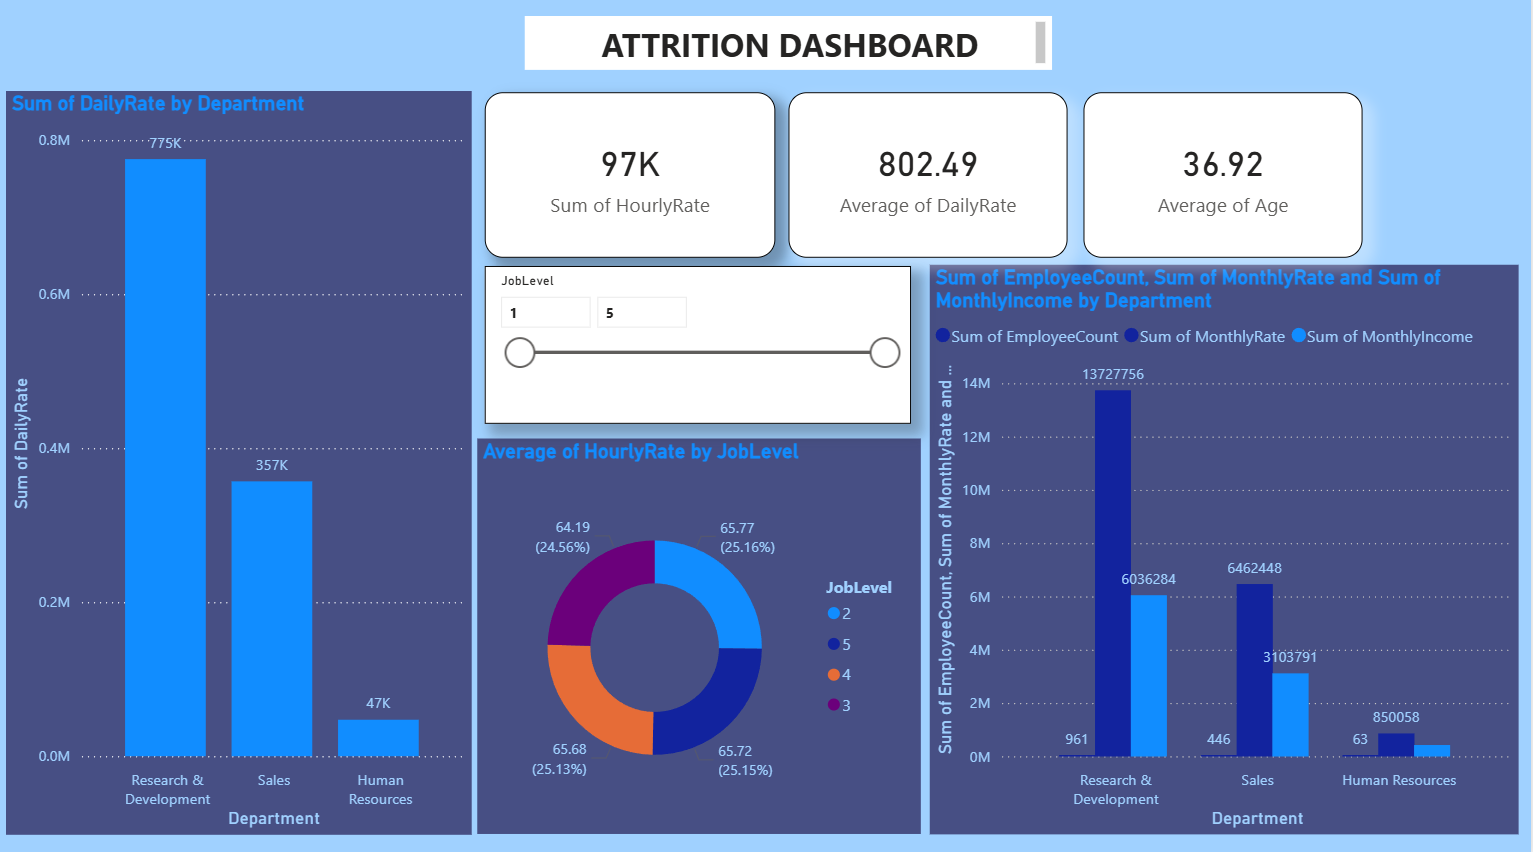

What the dashboard file says about the page in this screenshot:
{"tool":"powerbi","page":{"name":"ATTRITION DASHBOARD","canvas":[1280,720],"ordinal":0},"visuals":[{"type":"donutChart","fields":{"Y":["Avg(HR_Employee_Attrition.HourlyRate)"],"Category":["HR_Employee_Attrition.JobLevel"]},"box":[403.9,372.4,368.4,328.9],"z":0},{"type":"clusteredColumnChart","fields":{"Category":["HR_Employee_Attrition.Department"],"Y":["Sum(HR_Employee_Attrition.DailyRate)"]},"box":[12.5,83.3,387.5,618.1],"z":1000},{"type":"clusteredColumnChart","fields":{"Category":["HR_Employee_Attrition.Department"],"Y":["Sum(HR_Employee_Attrition.EmployeeCount)","Sum(HR_Employee_Attrition.MonthlyRate)","Sum(HR_Employee_Attrition.MonthlyIncome)"]},"box":[780.8,227.8,489.9,473.4],"z":2000},{"type":"textbox","box":[443.4,21.1,438.2,44.7],"z":3000},{"type":"card","fields":{"Values":["Sum(HR_Employee_Attrition.HourlyRate)"]},"box":[410.3,83.7,241.5,137.2],"z":4000},{"type":"card","fields":{"Values":["Avg(HR_Employee_Attrition.DailyRate)"]},"box":[662.8,83.7,231.9,137.2],"z":5000},{"type":"slicer","fields":{"Values":["HR_Employee_Attrition.JobLevel"]},"box":[410.5,229.1,354.7,131.4],"z":6000},{"type":"card","fields":{"Values":["Avg(HR_Employee_Attrition.Age)"]},"box":[908.4,83.7,231.9,137.2],"z":7000}]}

Visuals, with their boxes in screenshot pixels (x1, y1, x2, y2), scaled from the page's 1280x720 canvas onto the 1533x852 screenshot:
donutChart - Avg(HR_Employee_Attrition.HourlyRate) x HR_Employee_Attrition.JobLevel: detection(484, 441, 925, 830)
clusteredColumnChart - HR_Employee_Attrition.Department x Sum(HR_Employee_Attrition.DailyRate): detection(15, 99, 479, 830)
clusteredColumnChart - HR_Employee_Attrition.Department x Sum(HR_Employee_Attrition.EmployeeCount): detection(935, 270, 1522, 830)
textbox: detection(531, 25, 1056, 78)
card - Sum(HR_Employee_Attrition.HourlyRate): detection(491, 99, 781, 261)
card - Avg(HR_Employee_Attrition.DailyRate): detection(794, 99, 1072, 261)
slicer - HR_Employee_Attrition.JobLevel: detection(492, 271, 916, 427)
card - Avg(HR_Employee_Attrition.Age): detection(1088, 99, 1366, 261)
